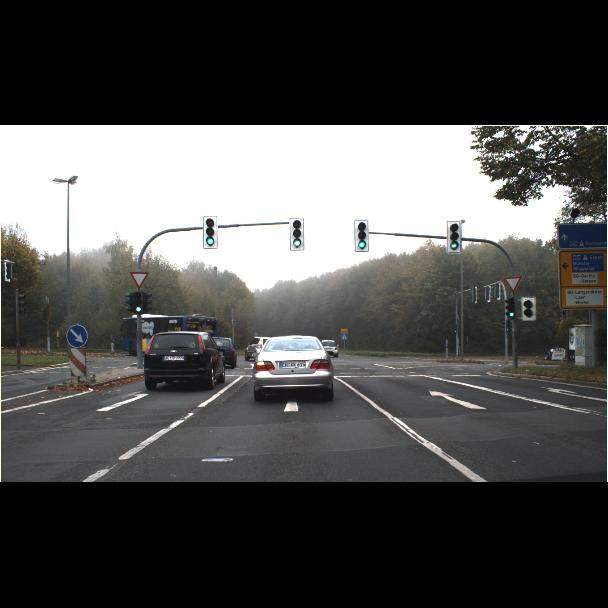give way: (66, 272, 522, 348)
